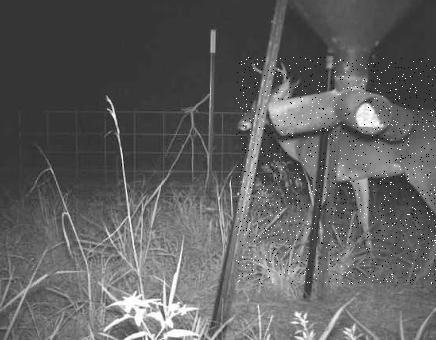Deer: (236, 57, 436, 284)
